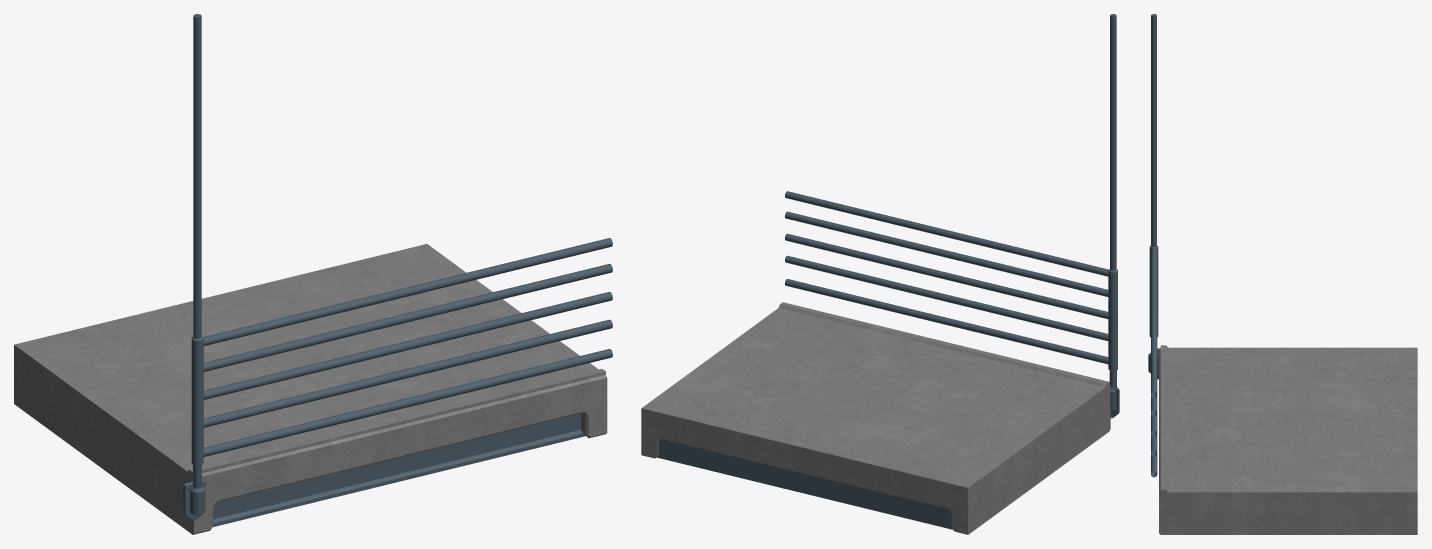
Rendered from Balcony.FBX.
3 renders of one model, left to right at view 1: azimuth 30°, elevation 25°; view 2: azimuth 150°, elevation 25°; view 3: azimuth 270°, elevation 25°, orthographic. The views are drawn at different scales.
Visible parts, largest first — view 1: Walkway, Railing, Box008, Post; view 2: Walkway, Railing, Box008, Post; view 3: Walkway, Post, Railing.
Boxes of the visible parts, x1,y1,x2,y2 form: Walkway: (14, 244, 607, 534); Railing: (203, 238, 612, 456); Box008: (213, 413, 585, 526); Post: (183, 14, 205, 520); Walkway: (641, 302, 1110, 534); Railing: (785, 191, 1108, 364); Box008: (656, 438, 952, 529); Post: (1108, 14, 1119, 418); Walkway: (1159, 345, 1417, 534); Post: (1148, 14, 1159, 379); Railing: (1151, 249, 1157, 477).
Size of the model in its own units: 81.88 by 96.58 by 62.79.
